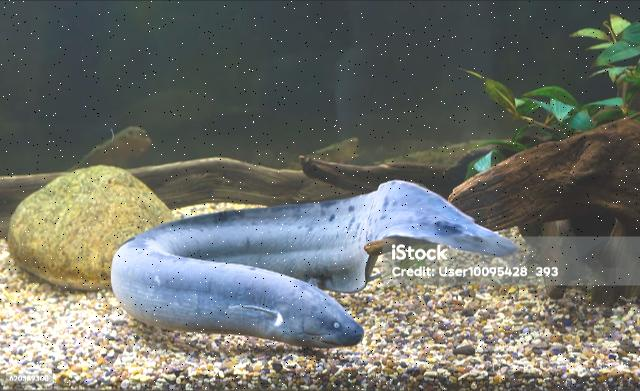Sirip Ekor: (374, 162, 534, 269)
